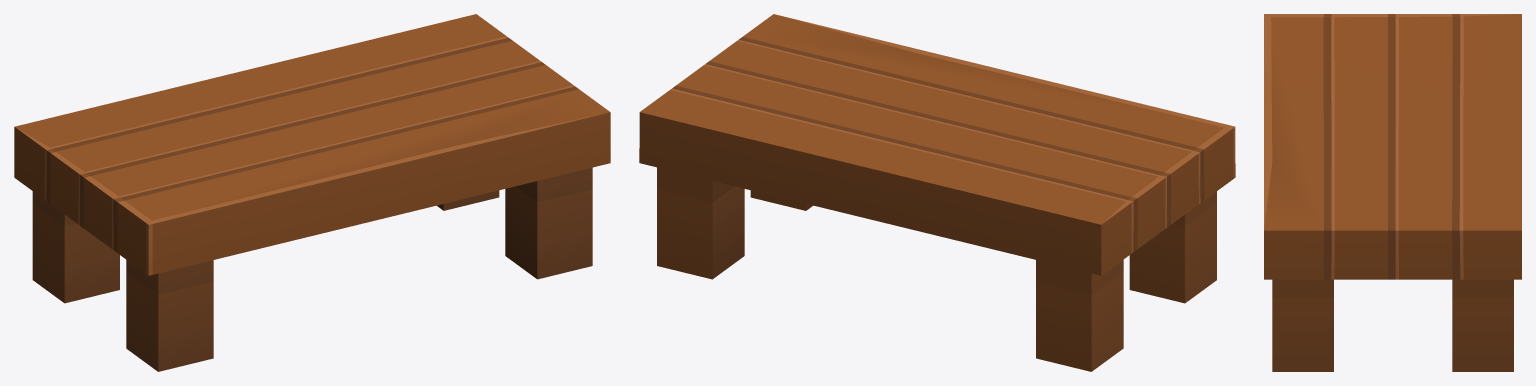
File: Table.FBX
The picture shows the model from 3 angles, left to right: view 1: azimuth 30°, elevation 25°; view 2: azimuth 150°, elevation 25°; view 3: azimuth 270°, elevation 25°; orthographic projection. The views are drawn at different scales.
Parts seen in each view (by area): view 1: Table; view 2: Table; view 3: Table.
Part boxes in pixels (left/top/right/bottom): Table: left=14, top=14, right=610, bottom=371; Table: left=639, top=14, right=1235, bottom=371; Table: left=1264, top=14, right=1521, bottom=371.
Bounding box in the file's own units: 1.67 × 0.53 × 0.839.
